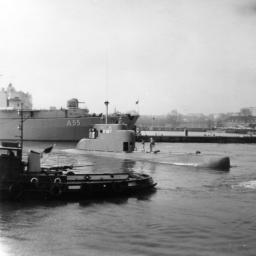submarine: (69, 123, 233, 172)
